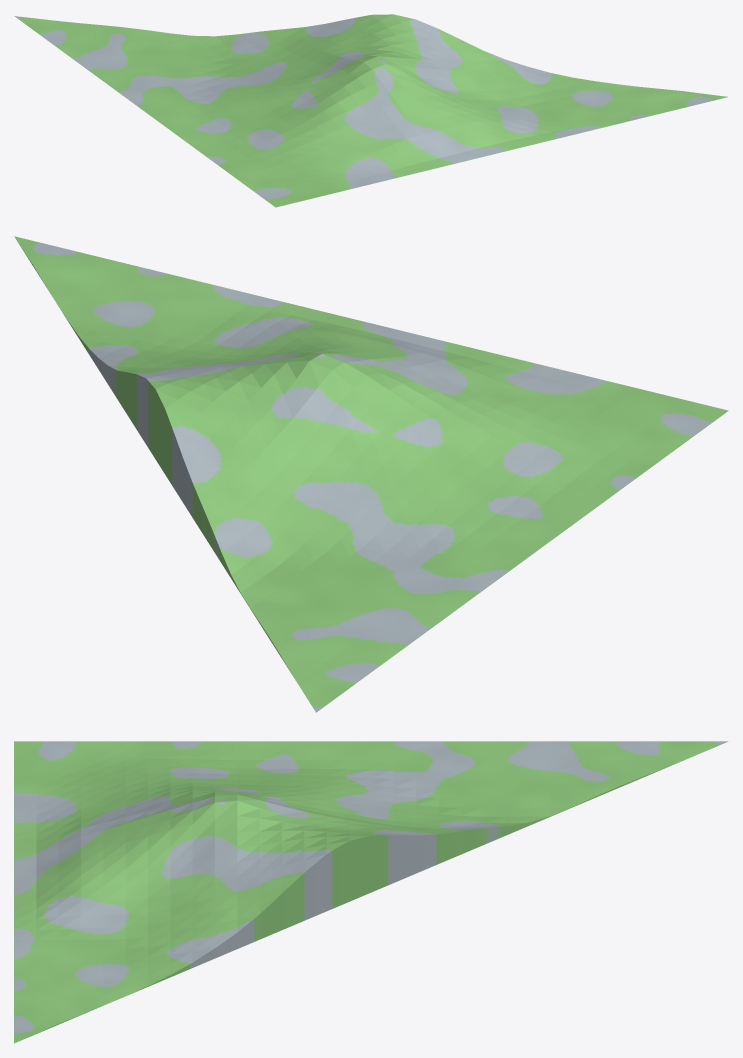
File: Grass_RockyGround_06_NW.obj
3 renders of one model, top to bottom at view 1: azimuth 30°, elevation 25°; view 2: azimuth 150°, elevation 25°; view 3: azimuth 270°, elevation 25°, orthographic. The views are drawn at different scales.
Bounding box in the file's own units: 10 × 0.9796 × 10.
Materials: 1 (1 with a texture image).
